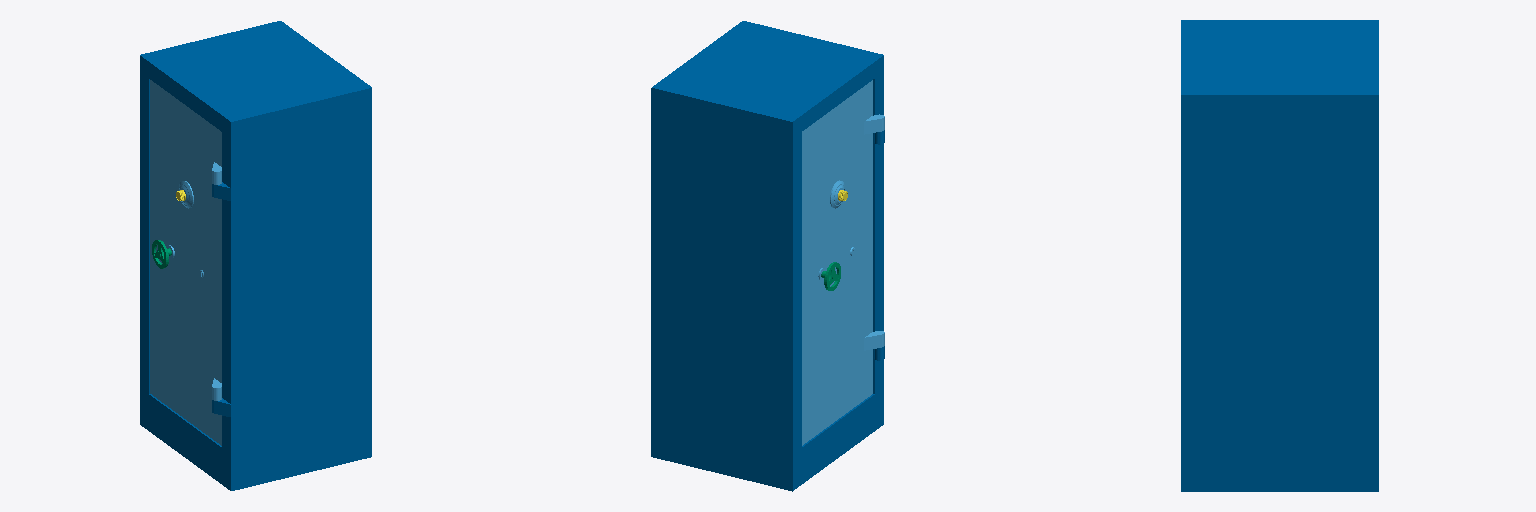
URDF robot description (partnet_ee769a6a-a53e-4f17-84c7-f4e8028a70ab):
<?xml version="1.0" ?>
<robot name="partnet_ee769a6a-a53e-4f17-84c7-f4e8028a70ab">
	<link name="base"/>
	<link name="link_0">
		<visual name="door-1">
			<origin xyz="-0.29951780758484137 -0.5670720000000002 -0.34738145598447095"/>
			<geometry>
				<mesh filename="textured_objs/original-9.obj"/>
			</geometry>
		</visual>
		<visual name="door-1">
			<origin xyz="-0.29951780758484137 -0.5670720000000002 -0.34738145598447095"/>
			<geometry>
				<mesh filename="textured_objs/original-22.obj"/>
			</geometry>
		</visual>
		<visual name="door-1">
			<origin xyz="-0.29951780758484137 -0.5670720000000002 -0.34738145598447095"/>
			<geometry>
				<mesh filename="textured_objs/original-23.obj"/>
			</geometry>
		</visual>
		<visual name="door-1">
			<origin xyz="-0.29951780758484137 -0.5670720000000002 -0.34738145598447095"/>
			<geometry>
				<mesh filename="textured_objs/original-4.obj"/>
			</geometry>
		</visual>
		<visual name="door-1">
			<origin xyz="-0.29951780758484137 -0.5670720000000002 -0.34738145598447095"/>
			<geometry>
				<mesh filename="textured_objs/original-2.obj"/>
			</geometry>
		</visual>
		<visual name="door-1">
			<origin xyz="-0.29951780758484137 -0.5670720000000002 -0.34738145598447095"/>
			<geometry>
				<mesh filename="textured_objs/original-5.obj"/>
			</geometry>
		</visual>
		<visual name="door-1">
			<origin xyz="-0.29951780758484137 -0.5670720000000002 -0.34738145598447095"/>
			<geometry>
				<mesh filename="textured_objs/original-6.obj"/>
			</geometry>
		</visual>
		<visual name="door-1">
			<origin xyz="-0.29951780758484137 -0.5670720000000002 -0.34738145598447095"/>
			<geometry>
				<mesh filename="textured_objs/original-30.obj"/>
			</geometry>
		</visual>
		<visual name="door-1">
			<origin xyz="-0.29951780758484137 -0.5670720000000002 -0.34738145598447095"/>
			<geometry>
				<mesh filename="textured_objs/original-31.obj"/>
			</geometry>
		</visual>
		<visual name="door-1">
			<origin xyz="-0.29951780758484137 -0.5670720000000002 -0.34738145598447095"/>
			<geometry>
				<mesh filename="textured_objs/original-12.obj"/>
			</geometry>
		</visual>
		<visual name="door-1">
			<origin xyz="-0.29951780758484137 -0.5670720000000002 -0.34738145598447095"/>
			<geometry>
				<mesh filename="textured_objs/original-8.obj"/>
			</geometry>
		</visual>
		<visual name="door-1">
			<origin xyz="-0.29951780758484137 -0.5670720000000002 -0.34738145598447095"/>
			<geometry>
				<mesh filename="textured_objs/original-29.obj"/>
			</geometry>
		</visual>
		<visual name="door-1">
			<origin xyz="-0.29951780758484137 -0.5670720000000002 -0.34738145598447095"/>
			<geometry>
				<mesh filename="textured_objs/original-3.obj"/>
			</geometry>
		</visual>
		<collision>
			<origin xyz="-0.29951780758484137 -0.5670720000000002 -0.34738145598447095"/>
			<geometry>
				<mesh filename="textured_objs/original-9.obj"/>
			</geometry>
		</collision>
		<collision>
			<origin xyz="-0.29951780758484137 -0.5670720000000002 -0.34738145598447095"/>
			<geometry>
				<mesh filename="textured_objs/original-22.obj"/>
			</geometry>
		</collision>
		<collision>
			<origin xyz="-0.29951780758484137 -0.5670720000000002 -0.34738145598447095"/>
			<geometry>
				<mesh filename="textured_objs/original-23.obj"/>
			</geometry>
		</collision>
		<collision>
			<origin xyz="-0.29951780758484137 -0.5670720000000002 -0.34738145598447095"/>
			<geometry>
				<mesh filename="textured_objs/original-4.obj"/>
			</geometry>
		</collision>
		<collision>
			<origin xyz="-0.29951780758484137 -0.5670720000000002 -0.34738145598447095"/>
			<geometry>
				<mesh filename="textured_objs/original-2.obj"/>
			</geometry>
		</collision>
		<collision>
			<origin xyz="-0.29951780758484137 -0.5670720000000002 -0.34738145598447095"/>
			<geometry>
				<mesh filename="textured_objs/original-5.obj"/>
			</geometry>
		</collision>
		<collision>
			<origin xyz="-0.29951780758484137 -0.5670720000000002 -0.34738145598447095"/>
			<geometry>
				<mesh filename="textured_objs/original-6.obj"/>
			</geometry>
		</collision>
		<collision>
			<origin xyz="-0.29951780758484137 -0.5670720000000002 -0.34738145598447095"/>
			<geometry>
				<mesh filename="textured_objs/original-30.obj"/>
			</geometry>
		</collision>
		<collision>
			<origin xyz="-0.29951780758484137 -0.5670720000000002 -0.34738145598447095"/>
			<geometry>
				<mesh filename="textured_objs/original-31.obj"/>
			</geometry>
		</collision>
		<collision>
			<origin xyz="-0.29951780758484137 -0.5670720000000002 -0.34738145598447095"/>
			<geometry>
				<mesh filename="textured_objs/original-12.obj"/>
			</geometry>
		</collision>
		<collision>
			<origin xyz="-0.29951780758484137 -0.5670720000000002 -0.34738145598447095"/>
			<geometry>
				<mesh filename="textured_objs/original-8.obj"/>
			</geometry>
		</collision>
		<collision>
			<origin xyz="-0.29951780758484137 -0.5670720000000002 -0.34738145598447095"/>
			<geometry>
				<mesh filename="textured_objs/original-29.obj"/>
			</geometry>
		</collision>
		<collision>
			<origin xyz="-0.29951780758484137 -0.5670720000000002 -0.34738145598447095"/>
			<geometry>
				<mesh filename="textured_objs/original-3.obj"/>
			</geometry>
		</collision>
	</link>
	<joint name="joint_0" type="revolute">
		<origin xyz="0.29951780758484137 0.5670720000000002 0.34738145598447095"/>
		<axis xyz="0 1 0"/>
		<child link="link_0"/>
		<parent link="link_3"/>
		<limit lower="0.0" upper="2.9670597283903604"/>
	</joint>
	<link name="link_1">
		<visual name="switch-2">
			<origin xyz="0.1334695 -0.009191571842105267 0"/>
			<geometry>
				<mesh filename="textured_objs/original-15.obj"/>
			</geometry>
		</visual>
		<visual name="switch-2">
			<origin xyz="0.1334695 -0.009191571842105267 0"/>
			<geometry>
				<mesh filename="textured_objs/original-13.obj"/>
			</geometry>
		</visual>
		<visual name="switch-2">
			<origin xyz="0.1334695 -0.009191571842105267 0"/>
			<geometry>
				<mesh filename="textured_objs/original-18.obj"/>
			</geometry>
		</visual>
		<visual name="switch-2">
			<origin xyz="0.1334695 -0.009191571842105267 0"/>
			<geometry>
				<mesh filename="textured_objs/original-17.obj"/>
			</geometry>
		</visual>
		<visual name="switch-2">
			<origin xyz="0.1334695 -0.009191571842105267 0"/>
			<geometry>
				<mesh filename="textured_objs/original-14.obj"/>
			</geometry>
		</visual>
		<collision>
			<origin xyz="0.1334695 -0.009191571842105267 0"/>
			<geometry>
				<mesh filename="textured_objs/original-15.obj"/>
			</geometry>
		</collision>
		<collision>
			<origin xyz="0.1334695 -0.009191571842105267 0"/>
			<geometry>
				<mesh filename="textured_objs/original-13.obj"/>
			</geometry>
		</collision>
		<collision>
			<origin xyz="0.1334695 -0.009191571842105267 0"/>
			<geometry>
				<mesh filename="textured_objs/original-18.obj"/>
			</geometry>
		</collision>
		<collision>
			<origin xyz="0.1334695 -0.009191571842105267 0"/>
			<geometry>
				<mesh filename="textured_objs/original-17.obj"/>
			</geometry>
		</collision>
		<collision>
			<origin xyz="0.1334695 -0.009191571842105267 0"/>
			<geometry>
				<mesh filename="textured_objs/original-14.obj"/>
			</geometry>
		</collision>
	</link>
	<joint name="joint_1" type="fixed">
		<origin xyz="-0.4329873075848414 -0.557880428157895 -0.34738145598447095"/>
		<axis xyz="0 0 -1"/>
		<child link="link_1"/>
		<parent link="link_0"/>
	</joint>
	<link name="link_2">
		<visual name="switch-5">
			<origin xyz="0.0057105 -0.3241695 0"/>
			<geometry>
				<mesh filename="textured_objs/original-28.obj"/>
			</geometry>
		</visual>
		<visual name="switch-5">
			<origin xyz="0.0057105 -0.3241695 0"/>
			<geometry>
				<mesh filename="textured_objs/original-27.obj"/>
			</geometry>
		</visual>
		<visual name="switch-5">
			<origin xyz="0.0057105 -0.3241695 0"/>
			<geometry>
				<mesh filename="textured_objs/original-64.obj"/>
			</geometry>
		</visual>
		<visual name="switch-5">
			<origin xyz="0.0057105 -0.3241695 0"/>
			<geometry>
				<mesh filename="textured_objs/original-65.obj"/>
			</geometry>
		</visual>
		<visual name="switch-5">
			<origin xyz="0.0057105 -0.3241695 0"/>
			<geometry>
				<mesh filename="textured_objs/original-66.obj"/>
			</geometry>
		</visual>
		<visual name="switch-5">
			<origin xyz="0.0057105 -0.3241695 0"/>
			<geometry>
				<mesh filename="textured_objs/original-63.obj"/>
			</geometry>
		</visual>
		<visual name="switch-5">
			<origin xyz="0.0057105 -0.3241695 0"/>
			<geometry>
				<mesh filename="textured_objs/original-62.obj"/>
			</geometry>
		</visual>
		<visual name="switch-5">
			<origin xyz="0.0057105 -0.3241695 0"/>
			<geometry>
				<mesh filename="textured_objs/original-32.obj"/>
			</geometry>
		</visual>
		<visual name="switch-5">
			<origin xyz="0.0057105 -0.3241695 0"/>
			<geometry>
				<mesh filename="textured_objs/original-33.obj"/>
			</geometry>
		</visual>
		<visual name="switch-5">
			<origin xyz="0.0057105 -0.3241695 0"/>
			<geometry>
				<mesh filename="textured_objs/original-34.obj"/>
			</geometry>
		</visual>
		<visual name="switch-5">
			<origin xyz="0.0057105 -0.3241695 0"/>
			<geometry>
				<mesh filename="textured_objs/original-35.obj"/>
			</geometry>
		</visual>
		<visual name="switch-5">
			<origin xyz="0.0057105 -0.3241695 0"/>
			<geometry>
				<mesh filename="textured_objs/original-36.obj"/>
			</geometry>
		</visual>
		<visual name="switch-5">
			<origin xyz="0.0057105 -0.3241695 0"/>
			<geometry>
				<mesh filename="textured_objs/original-37.obj"/>
			</geometry>
		</visual>
		<visual name="switch-5">
			<origin xyz="0.0057105 -0.3241695 0"/>
			<geometry>
				<mesh filename="textured_objs/original-38.obj"/>
			</geometry>
		</visual>
		<visual name="switch-5">
			<origin xyz="0.0057105 -0.3241695 0"/>
			<geometry>
				<mesh filename="textured_objs/original-39.obj"/>
			</geometry>
		</visual>
		<visual name="switch-5">
			<origin xyz="0.0057105 -0.3241695 0"/>
			<geometry>
				<mesh filename="textured_objs/original-40.obj"/>
			</geometry>
		</visual>
		<visual name="switch-5">
			<origin xyz="0.0057105 -0.3241695 0"/>
			<geometry>
				<mesh filename="textured_objs/original-41.obj"/>
			</geometry>
		</visual>
		<visual name="switch-5">
			<origin xyz="0.0057105 -0.3241695 0"/>
			<geometry>
				<mesh filename="textured_objs/original-42.obj"/>
			</geometry>
		</visual>
		<visual name="switch-5">
			<origin xyz="0.0057105 -0.3241695 0"/>
			<geometry>
				<mesh filename="textured_objs/original-43.obj"/>
			</geometry>
		</visual>
		<visual name="switch-5">
			<origin xyz="0.0057105 -0.3241695 0"/>
			<geometry>
				<mesh filename="textured_objs/original-44.obj"/>
			</geometry>
		</visual>
		<visual name="switch-5">
			<origin xyz="0.0057105 -0.3241695 0"/>
			<geometry>
				<mesh filename="textured_objs/original-45.obj"/>
			</geometry>
		</visual>
		<visual name="switch-5">
			<origin xyz="0.0057105 -0.3241695 0"/>
			<geometry>
				<mesh filename="textured_objs/original-46.obj"/>
			</geometry>
		</visual>
		<visual name="switch-5">
			<origin xyz="0.0057105 -0.3241695 0"/>
			<geometry>
				<mesh filename="textured_objs/original-47.obj"/>
			</geometry>
		</visual>
		<visual name="switch-5">
			<origin xyz="0.0057105 -0.3241695 0"/>
			<geometry>
				<mesh filename="textured_objs/original-48.obj"/>
			</geometry>
		</visual>
		<visual name="switch-5">
			<origin xyz="0.0057105 -0.3241695 0"/>
			<geometry>
				<mesh filename="textured_objs/original-49.obj"/>
			</geometry>
		</visual>
		<visual name="switch-5">
			<origin xyz="0.0057105 -0.3241695 0"/>
			<geometry>
				<mesh filename="textured_objs/original-50.obj"/>
			</geometry>
		</visual>
		<visual name="switch-5">
			<origin xyz="0.0057105 -0.3241695 0"/>
			<geometry>
				<mesh filename="textured_objs/original-51.obj"/>
			</geometry>
		</visual>
		<visual name="switch-5">
			<origin xyz="0.0057105 -0.3241695 0"/>
			<geometry>
				<mesh filename="textured_objs/original-52.obj"/>
			</geometry>
		</visual>
		<visual name="switch-5">
			<origin xyz="0.0057105 -0.3241695 0"/>
			<geometry>
				<mesh filename="textured_objs/original-53.obj"/>
			</geometry>
		</visual>
		<visual name="switch-5">
			<origin xyz="0.0057105 -0.3241695 0"/>
			<geometry>
				<mesh filename="textured_objs/original-54.obj"/>
			</geometry>
		</visual>
		<visual name="switch-5">
			<origin xyz="0.0057105 -0.3241695 0"/>
			<geometry>
				<mesh filename="textured_objs/original-57.obj"/>
			</geometry>
		</visual>
		<visual name="switch-5">
			<origin xyz="0.0057105 -0.3241695 0"/>
			<geometry>
				<mesh filename="textured_objs/original-26.obj"/>
			</geometry>
		</visual>
		<visual name="switch-5">
			<origin xyz="0.0057105 -0.3241695 0"/>
			<geometry>
				<mesh filename="textured_objs/original-56.obj"/>
			</geometry>
		</visual>
		<visual name="switch-5">
			<origin xyz="0.0057105 -0.3241695 0"/>
			<geometry>
				<mesh filename="textured_objs/original-55.obj"/>
			</geometry>
		</visual>
		<visual name="switch-5">
			<origin xyz="0.0057105 -0.3241695 0"/>
			<geometry>
				<mesh filename="textured_objs/original-61.obj"/>
			</geometry>
		</visual>
		<visual name="switch-5">
			<origin xyz="0.0057105 -0.3241695 0"/>
			<geometry>
				<mesh filename="textured_objs/original-60.obj"/>
			</geometry>
		</visual>
		<visual name="switch-5">
			<origin xyz="0.0057105 -0.3241695 0"/>
			<geometry>
				<mesh filename="textured_objs/original-59.obj"/>
			</geometry>
		</visual>
		<visual name="switch-5">
			<origin xyz="0.0057105 -0.3241695 0"/>
			<geometry>
				<mesh filename="textured_objs/original-58.obj"/>
			</geometry>
		</visual>
		<visual name="switch-5">
			<origin xyz="0.0057105 -0.3241695 0"/>
			<geometry>
				<mesh filename="textured_objs/original-67.obj"/>
			</geometry>
		</visual>
		<collision>
			<origin xyz="0.0057105 -0.3241695 0"/>
			<geometry>
				<mesh filename="textured_objs/original-28.obj"/>
			</geometry>
		</collision>
		<collision>
			<origin xyz="0.0057105 -0.3241695 0"/>
			<geometry>
				<mesh filename="textured_objs/original-27.obj"/>
			</geometry>
		</collision>
		<collision>
			<origin xyz="0.0057105 -0.3241695 0"/>
			<geometry>
				<mesh filename="textured_objs/original-64.obj"/>
			</geometry>
		</collision>
		<collision>
			<origin xyz="0.0057105 -0.3241695 0"/>
			<geometry>
				<mesh filename="textured_objs/original-65.obj"/>
			</geometry>
		</collision>
		<collision>
			<origin xyz="0.0057105 -0.3241695 0"/>
			<geometry>
				<mesh filename="textured_objs/original-66.obj"/>
			</geometry>
		</collision>
		<collision>
			<origin xyz="0.0057105 -0.3241695 0"/>
			<geometry>
				<mesh filename="textured_objs/original-63.obj"/>
			</geometry>
		</collision>
		<collision>
			<origin xyz="0.0057105 -0.3241695 0"/>
			<geometry>
				<mesh filename="textured_objs/original-62.obj"/>
			</geometry>
		</collision>
		<collision>
			<origin xyz="0.0057105 -0.3241695 0"/>
			<geometry>
				<mesh filename="textured_objs/original-32.obj"/>
			</geometry>
		</collision>
		<collision>
			<origin xyz="0.0057105 -0.3241695 0"/>
			<geometry>
				<mesh filename="textured_objs/original-33.obj"/>
			</geometry>
		</collision>
		<collision>
			<origin xyz="0.0057105 -0.3241695 0"/>
			<geometry>
				<mesh filename="textured_objs/original-34.obj"/>
			</geometry>
		</collision>
		<collision>
			<origin xyz="0.0057105 -0.3241695 0"/>
			<geometry>
				<mesh filename="textured_objs/original-35.obj"/>
			</geometry>
		</collision>
		<collision>
			<origin xyz="0.0057105 -0.3241695 0"/>
			<geometry>
				<mesh filename="textured_objs/original-36.obj"/>
			</geometry>
		</collision>
		<collision>
			<origin xyz="0.0057105 -0.3241695 0"/>
			<geometry>
				<mesh filename="textured_objs/original-37.obj"/>
			</geometry>
		</collision>
		<collision>
			<origin xyz="0.0057105 -0.3241695 0"/>
			<geometry>
				<mesh filename="textured_objs/original-38.obj"/>
			</geometry>
		</collision>
		<collision>
			<origin xyz="0.0057105 -0.3241695 0"/>
			<geometry>
				<mesh filename="textured_objs/original-39.obj"/>
			</geometry>
		</collision>
		<collision>
			<origin xyz="0.0057105 -0.3241695 0"/>
			<geometry>
				<mesh filename="textured_objs/original-40.obj"/>
			</geometry>
		</collision>
		<collision>
			<origin xyz="0.0057105 -0.3241695 0"/>
			<geometry>
				<mesh filename="textured_objs/original-41.obj"/>
			</geometry>
		</collision>
		<collision>
			<origin xyz="0.0057105 -0.3241695 0"/>
			<geometry>
				<mesh filename="textured_objs/original-42.obj"/>
			</geometry>
		</collision>
		<collision>
			<origin xyz="0.0057105 -0.3241695 0"/>
			<geometry>
				<mesh filename="textured_objs/original-43.obj"/>
			</geometry>
		</collision>
		<collision>
			<origin xyz="0.0057105 -0.3241695 0"/>
			<geometry>
				<mesh filename="textured_objs/original-44.obj"/>
			</geometry>
		</collision>
		<collision>
			<origin xyz="0.0057105 -0.3241695 0"/>
			<geometry>
				<mesh filename="textured_objs/original-45.obj"/>
			</geometry>
		</collision>
		<collision>
			<origin xyz="0.0057105 -0.3241695 0"/>
			<geometry>
				<mesh filename="textured_objs/original-46.obj"/>
			</geometry>
		</collision>
		<collision>
			<origin xyz="0.0057105 -0.3241695 0"/>
			<geometry>
				<mesh filename="textured_objs/original-47.obj"/>
			</geometry>
		</collision>
		<collision>
			<origin xyz="0.0057105 -0.3241695 0"/>
			<geometry>
				<mesh filename="textured_objs/original-48.obj"/>
			</geometry>
		</collision>
		<collision>
			<origin xyz="0.0057105 -0.3241695 0"/>
			<geometry>
				<mesh filename="textured_objs/original-49.obj"/>
			</geometry>
		</collision>
		<collision>
			<origin xyz="0.0057105 -0.3241695 0"/>
			<geometry>
				<mesh filename="textured_objs/original-50.obj"/>
			</geometry>
		</collision>
		<collision>
			<origin xyz="0.0057105 -0.3241695 0"/>
			<geometry>
				<mesh filename="textured_objs/original-51.obj"/>
			</geometry>
		</collision>
		<collision>
			<origin xyz="0.0057105 -0.3241695 0"/>
			<geometry>
				<mesh filename="textured_objs/original-52.obj"/>
			</geometry>
		</collision>
		<collision>
			<origin xyz="0.0057105 -0.3241695 0"/>
			<geometry>
				<mesh filename="textured_objs/original-53.obj"/>
			</geometry>
		</collision>
		<collision>
			<origin xyz="0.0057105 -0.3241695 0"/>
			<geometry>
				<mesh filename="textured_objs/original-54.obj"/>
			</geometry>
		</collision>
		<collision>
			<origin xyz="0.0057105 -0.3241695 0"/>
			<geometry>
				<mesh filename="textured_objs/original-57.obj"/>
			</geometry>
		</collision>
		<collision>
			<origin xyz="0.0057105 -0.3241695 0"/>
			<geometry>
				<mesh filename="textured_objs/original-26.obj"/>
			</geometry>
		</collision>
		<collision>
			<origin xyz="0.0057105 -0.3241695 0"/>
			<geometry>
				<mesh filename="textured_objs/original-56.obj"/>
			</geometry>
		</collision>
		<collision>
			<origin xyz="0.0057105 -0.3241695 0"/>
			<geometry>
				<mesh filename="textured_objs/original-55.obj"/>
			</geometry>
		</collision>
		<collision>
			<origin xyz="0.0057105 -0.3241695 0"/>
			<geometry>
				<mesh filename="textured_objs/original-61.obj"/>
			</geometry>
		</collision>
		<collision>
			<origin xyz="0.0057105 -0.3241695 0"/>
			<geometry>
				<mesh filename="textured_objs/original-60.obj"/>
			</geometry>
		</collision>
		<collision>
			<origin xyz="0.0057105 -0.3241695 0"/>
			<geometry>
				<mesh filename="textured_objs/original-59.obj"/>
			</geometry>
		</collision>
		<collision>
			<origin xyz="0.0057105 -0.3241695 0"/>
			<geometry>
				<mesh filename="textured_objs/original-58.obj"/>
			</geometry>
		</collision>
		<collision>
			<origin xyz="0.0057105 -0.3241695 0"/>
			<geometry>
				<mesh filename="textured_objs/original-67.obj"/>
			</geometry>
		</collision>
	</link>
	<joint name="joint_2" type="fixed">
		<origin xyz="-0.3052283075848414 -0.24290250000000024 -0.34738145598447095"/>
		<axis xyz="0 0 1"/>
		<child link="link_2"/>
		<parent link="link_0"/>
	</joint>
	<link name="link_3">
		<visual name="base_body-6">
			<origin xyz="0 0 0"/>
			<geometry>
				<mesh filename="textured_objs/original-21.obj"/>
			</geometry>
		</visual>
		<visual name="base_body-6">
			<origin xyz="0 0 0"/>
			<geometry>
				<mesh filename="textured_objs/original-24.obj"/>
			</geometry>
		</visual>
		<visual name="base_body-6">
			<origin xyz="0 0 0"/>
			<geometry>
				<mesh filename="textured_objs/original-20.obj"/>
			</geometry>
		</visual>
		<visual name="base_body-6">
			<origin xyz="0 0 0"/>
			<geometry>
				<mesh filename="textured_objs/original-10.obj"/>
			</geometry>
		</visual>
		<collision>
			<origin xyz="0 0 0"/>
			<geometry>
				<mesh filename="textured_objs/original-21.obj"/>
			</geometry>
		</collision>
		<collision>
			<origin xyz="0 0 0"/>
			<geometry>
				<mesh filename="textured_objs/original-24.obj"/>
			</geometry>
		</collision>
		<collision>
			<origin xyz="0 0 0"/>
			<geometry>
				<mesh filename="textured_objs/original-20.obj"/>
			</geometry>
		</collision>
		<collision>
			<origin xyz="0 0 0"/>
			<geometry>
				<mesh filename="textured_objs/original-10.obj"/>
			</geometry>
		</collision>
	</link>
	<joint name="joint_3" type="fixed">
		<origin rpy="1.570796326794897 0 -1.570796326794897" xyz="0 0 0"/>
		<child link="link_3"/>
		<parent link="base"/>
	</joint>
</robot>

--- Facts derived from the render (not from the file) ---
Views: 3 orthographic renders of the robot side by side, from view 1: azimuth 30°, elevation 25°; view 2: azimuth 150°, elevation 25°; view 3: azimuth 270°, elevation 25°.
Robot: partnet_ee769a6a-a53e-4f17-84c7-f4e8028a70ab — 5 links, 4 joints (1 revolute, 3 fixed); root link base; default pose: all joints at 0.
Visible links, largest first — view 1: link_3, link_0; view 2: link_3, link_0; view 3: link_3.
Boxes of the visible links, x1,y1,x2,y2 form: link_3: [140, 21, 371, 490]; link_0: [150, 80, 221, 445]; link_3: [651, 21, 884, 491]; link_0: [802, 80, 884, 445]; link_3: [1181, 20, 1378, 491].
Bounding box of the posed robot: 0.7359 × 0.7666 × 1.7 m (x, y, z).
Meshes: 61 distinct files referenced, 61 mesh visuals loaded (61 OBJ).
